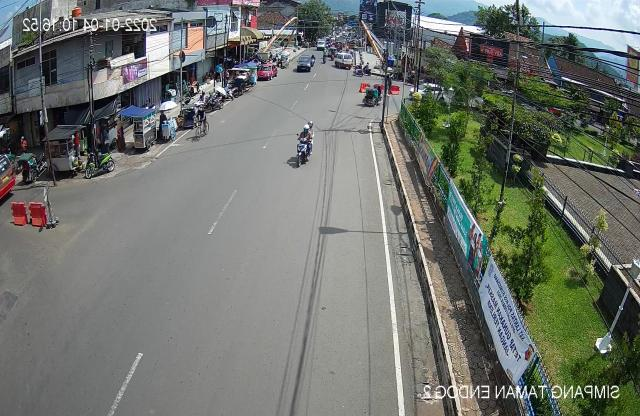Becak: (359, 84, 382, 110)
Motor: (290, 117, 318, 170), (80, 142, 117, 180)
